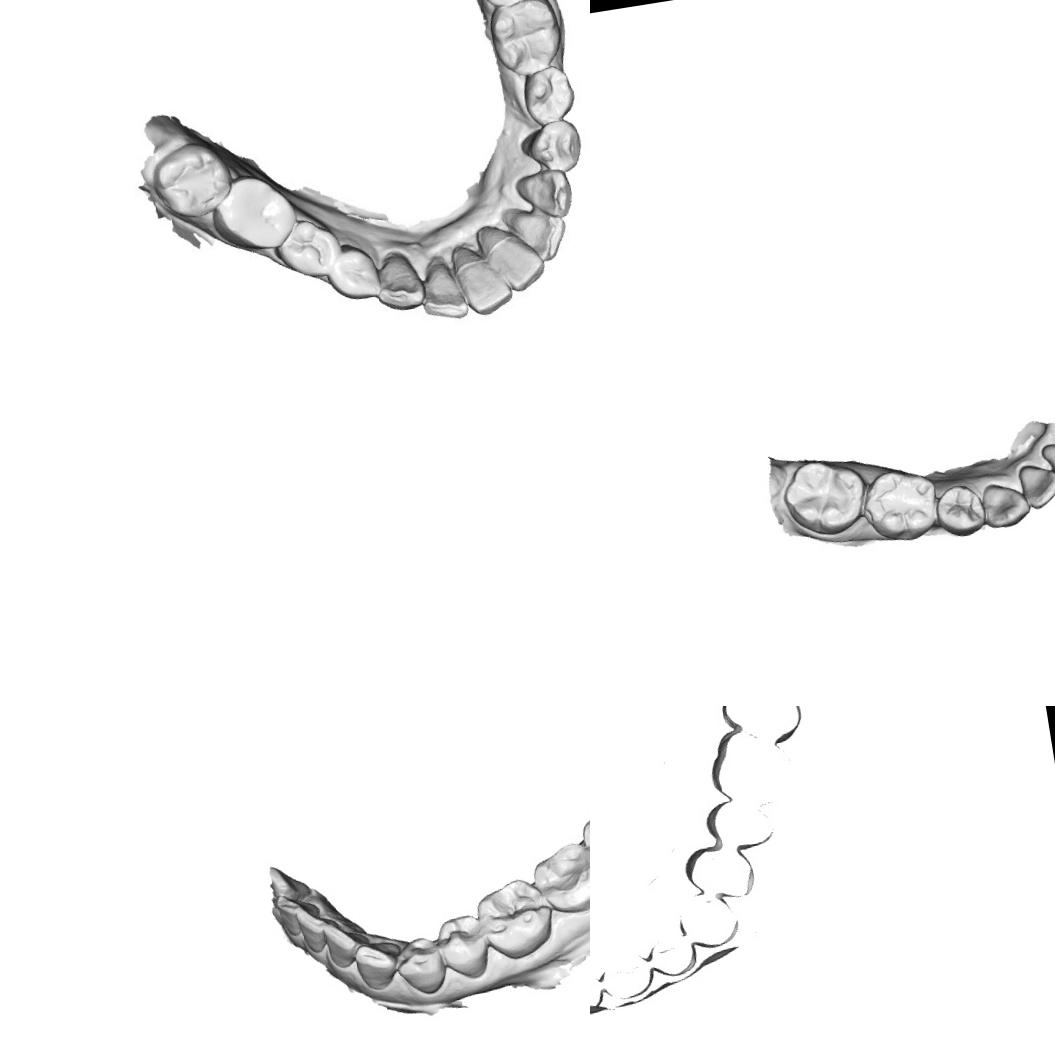canine: (370, 246, 429, 316), (511, 165, 578, 224), (392, 933, 450, 999), (978, 475, 1034, 532)
incisor: (450, 244, 516, 321), (482, 228, 549, 297), (506, 204, 572, 268), (416, 257, 470, 325), (350, 936, 408, 994), (319, 914, 372, 972), (267, 888, 324, 938), (292, 902, 340, 956), (1015, 458, 1055, 512), (1039, 436, 1055, 483)
molar: (204, 166, 302, 260), (777, 452, 873, 543), (145, 136, 239, 224), (856, 462, 942, 548), (484, 0, 570, 80), (526, 837, 590, 921)
premolar: (470, 871, 561, 965), (268, 211, 346, 287), (433, 910, 496, 984), (516, 115, 586, 179), (516, 60, 580, 126), (324, 240, 382, 305), (931, 479, 989, 541)
